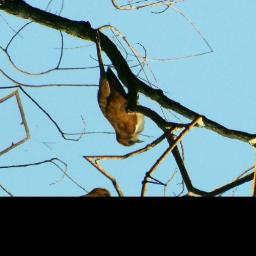Cuckoo: (76, 64, 170, 152)
